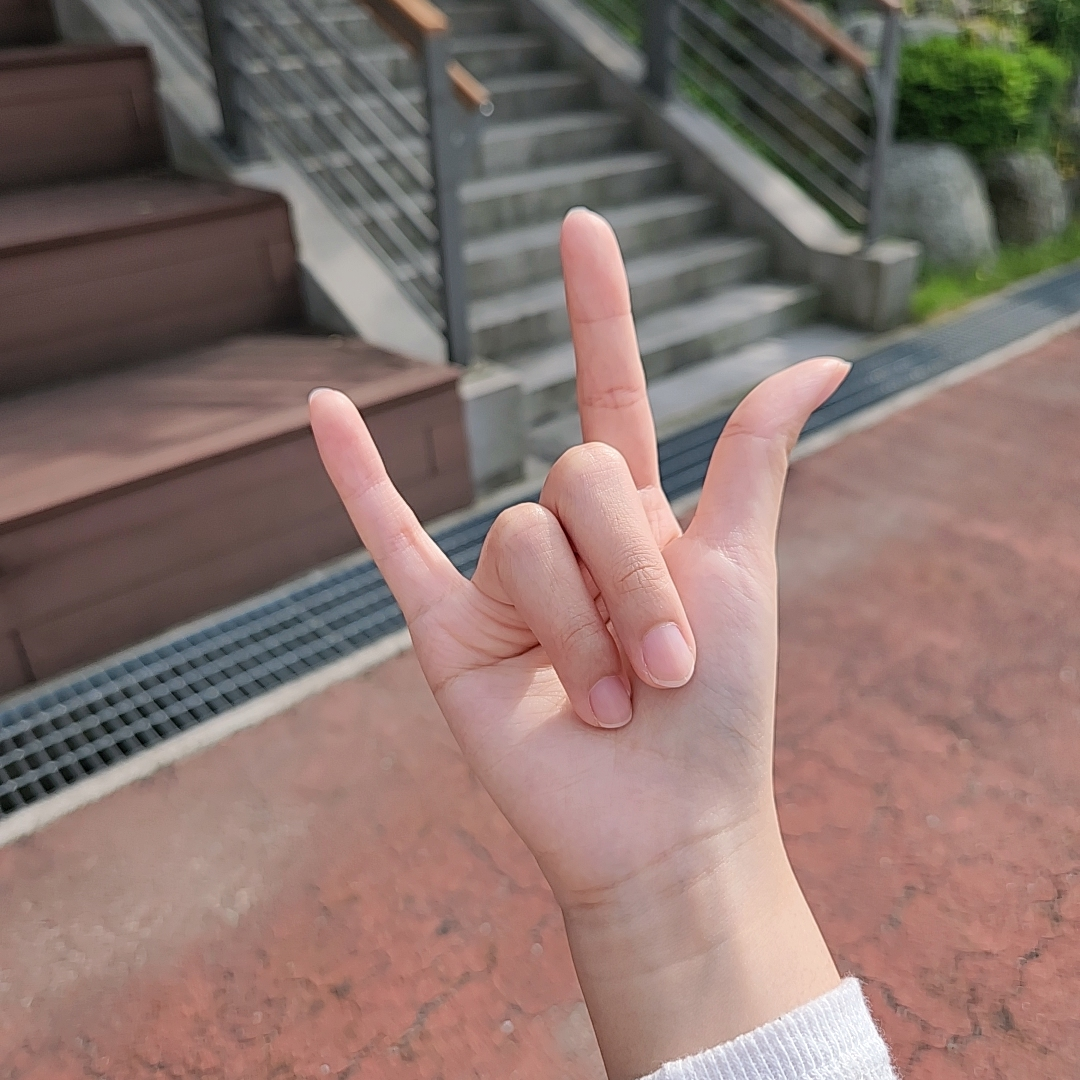iloveyou: (310, 206, 852, 855)
